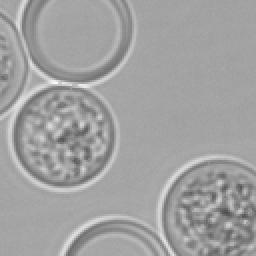picoshell: (6, 84, 118, 192), (18, 0, 136, 86), (156, 154, 254, 254), (58, 214, 168, 254), (0, 10, 26, 118)
